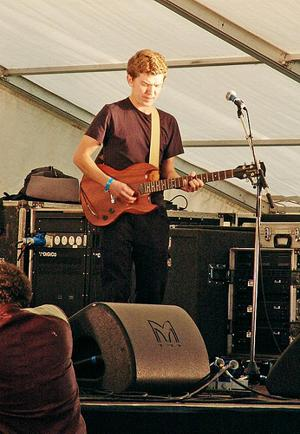person: (74, 49, 204, 304)
